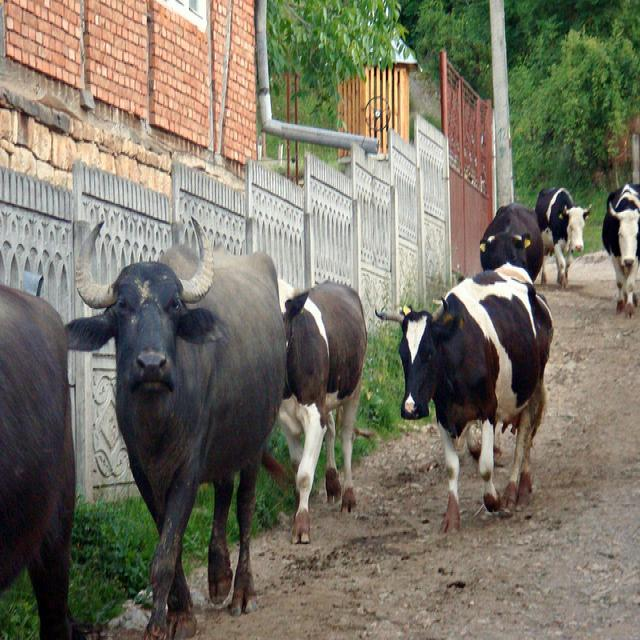cow: (64, 220, 280, 629), (374, 261, 554, 528), (0, 281, 76, 639), (277, 273, 367, 543), (532, 183, 586, 287), (477, 200, 543, 279), (601, 181, 639, 315)
